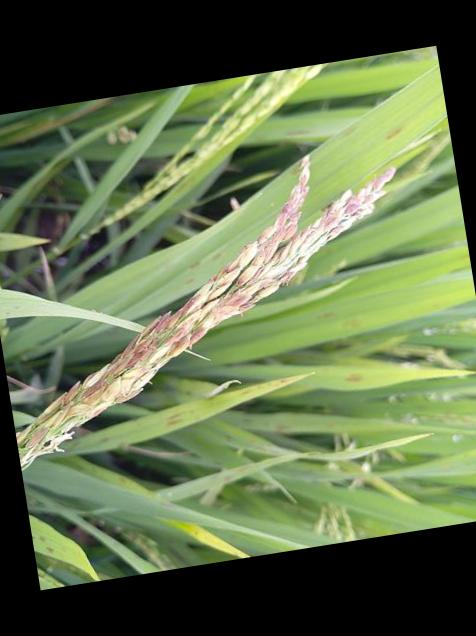Leaf Streak: (162, 374, 307, 430), (31, 535, 51, 555), (344, 374, 360, 383)
Panicle Blight: (15, 155, 393, 471)
